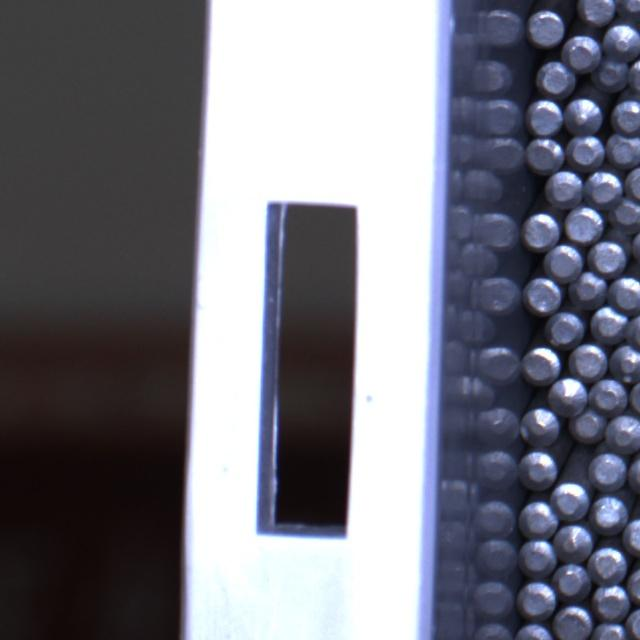tool: (589, 238, 631, 278), (519, 406, 560, 446), (564, 203, 606, 242), (521, 343, 561, 383), (518, 448, 557, 488), (522, 275, 562, 314), (589, 451, 629, 490), (552, 480, 590, 521), (570, 340, 609, 379), (520, 212, 558, 252), (589, 546, 627, 586), (584, 168, 624, 206), (602, 20, 640, 60), (524, 8, 564, 46), (546, 170, 585, 208), (545, 244, 583, 283), (562, 32, 600, 71), (563, 95, 602, 133), (592, 493, 630, 532), (524, 137, 564, 174), (591, 308, 631, 345), (548, 376, 586, 414), (520, 578, 558, 616), (555, 524, 593, 562), (567, 271, 606, 308), (538, 61, 577, 98), (552, 604, 592, 640), (546, 310, 586, 346), (590, 378, 628, 415), (522, 539, 559, 577), (527, 98, 564, 135), (523, 499, 560, 536), (568, 408, 606, 444), (591, 56, 628, 92), (567, 133, 605, 168), (606, 412, 640, 451), (555, 562, 591, 598), (595, 584, 630, 620), (607, 129, 640, 166), (609, 274, 640, 312), (612, 344, 640, 382), (610, 199, 640, 233), (612, 98, 640, 134), (578, 0, 616, 26), (515, 622, 554, 640), (590, 621, 626, 640), (623, 517, 640, 555), (625, 166, 640, 204), (627, 564, 640, 606), (629, 447, 640, 493), (616, 0, 640, 20), (628, 56, 640, 94), (627, 607, 640, 640), (629, 377, 640, 413)
